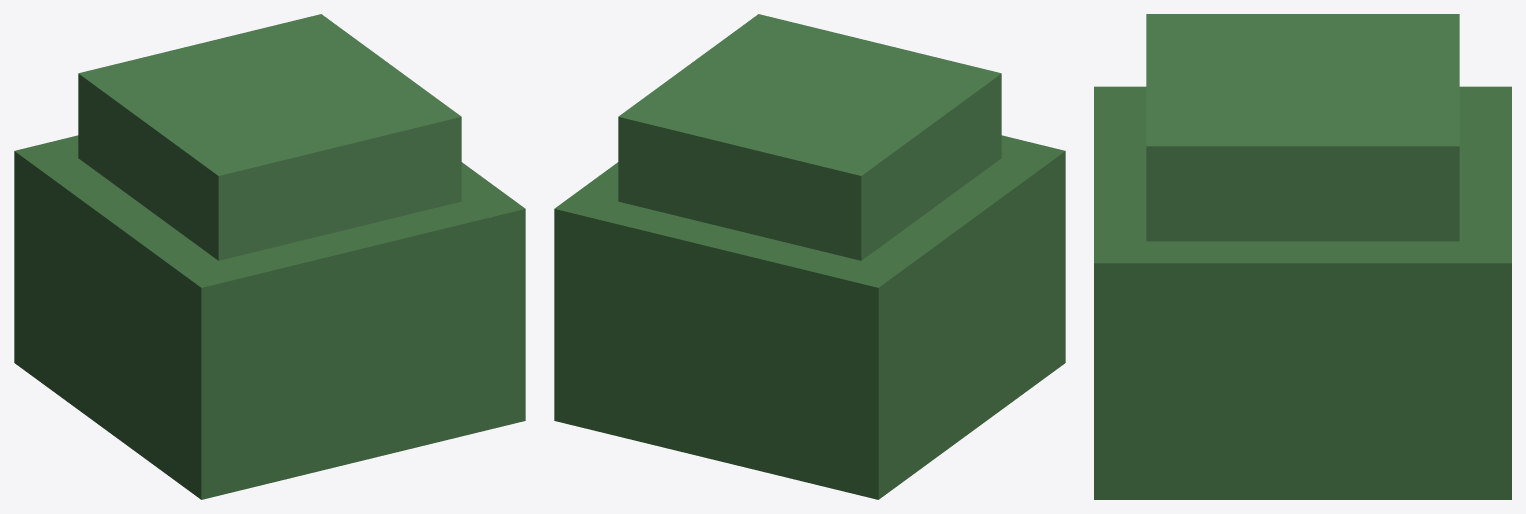
File: acebo_05.glb
3 renders of one model, left to right at view 1: azimuth 30°, elevation 25°; view 2: azimuth 150°, elevation 25°; view 3: azimuth 270°, elevation 25°, orthographic. The views are drawn at different scales.
Parts seen in each view (by area): view 1: acebo_05; view 2: acebo_05; view 3: acebo_05.
Part boxes in pixels (x1,y1,x2,y2): acebo_05: [14, 14, 525, 499]; acebo_05: [554, 14, 1065, 499]; acebo_05: [1094, 14, 1511, 499].
Bounding box in the file's own units: 0.8 × 0.7 × 0.8.
